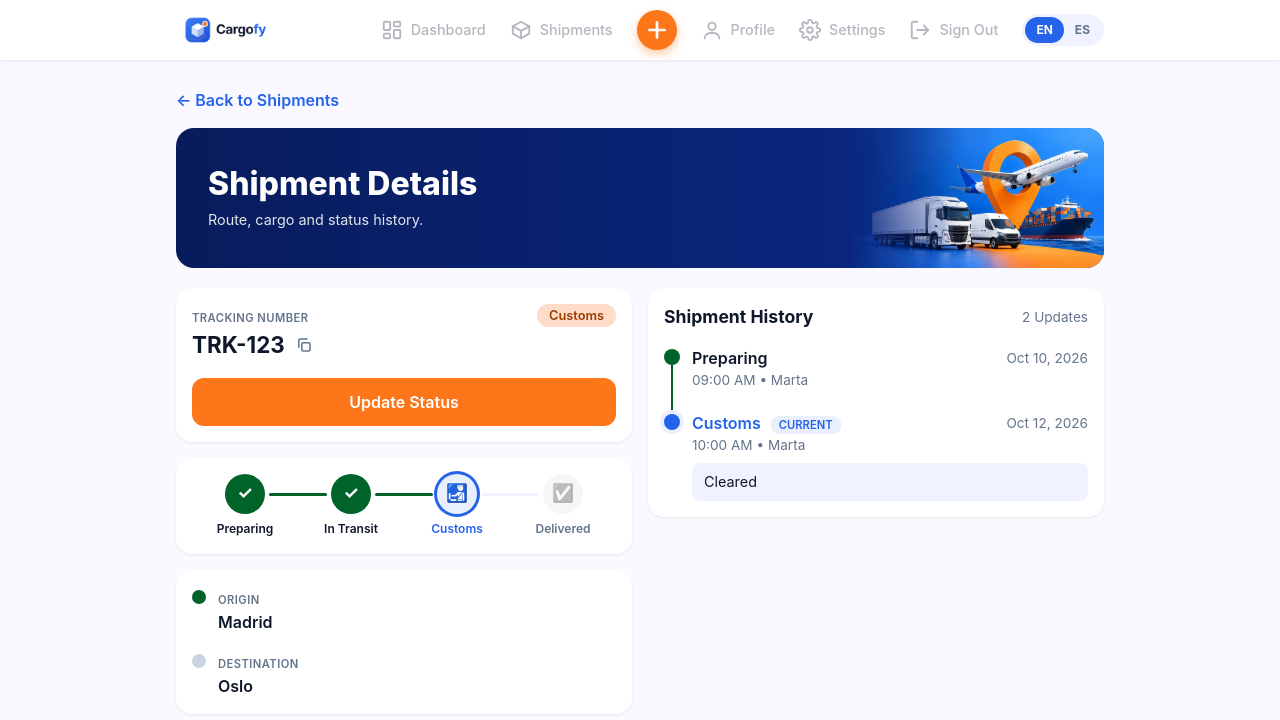
Test: ShipmentDetailView › keeps the form open and shows the error when the update fails
The width and height of the screenshot is (1280, 720).
Click the button with class "detail__update". click: (404, 402)
box: x1=192 y1=378 x2=616 y2=426
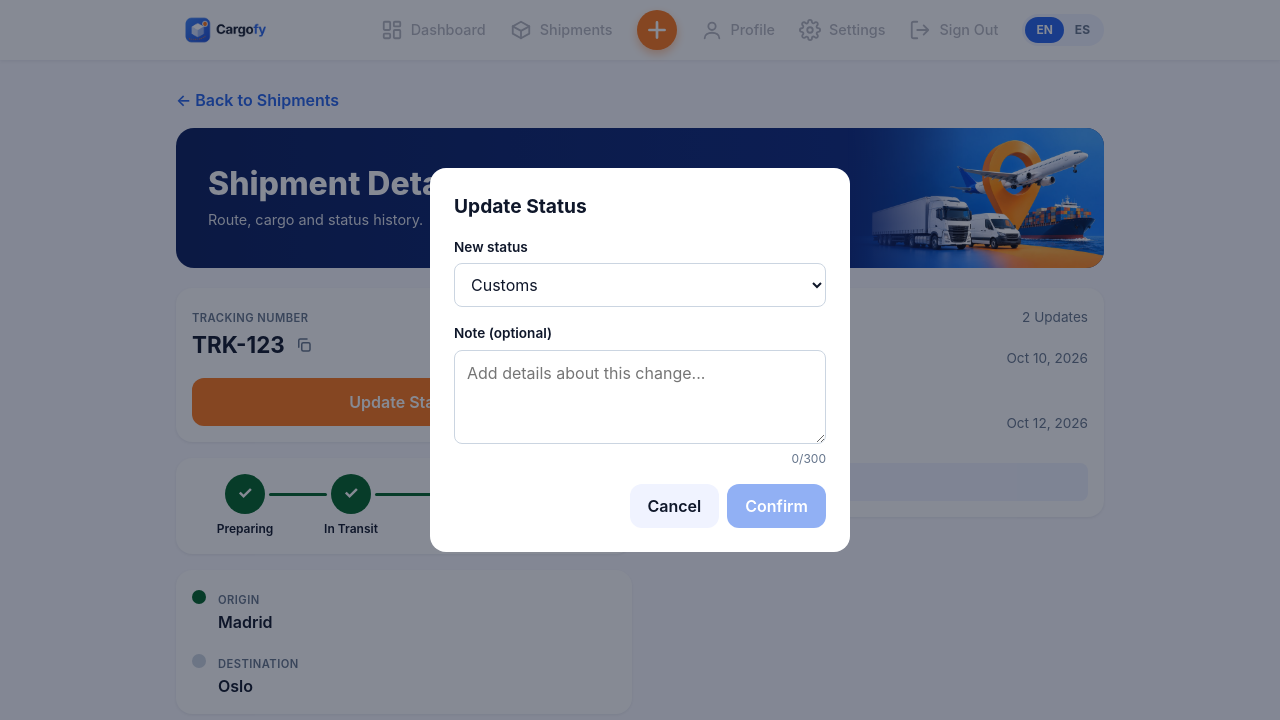
Select "Delivered" in the dropdown labelled "New status". click: (640, 285)
box: x1=454 y1=263 x2=826 y2=307
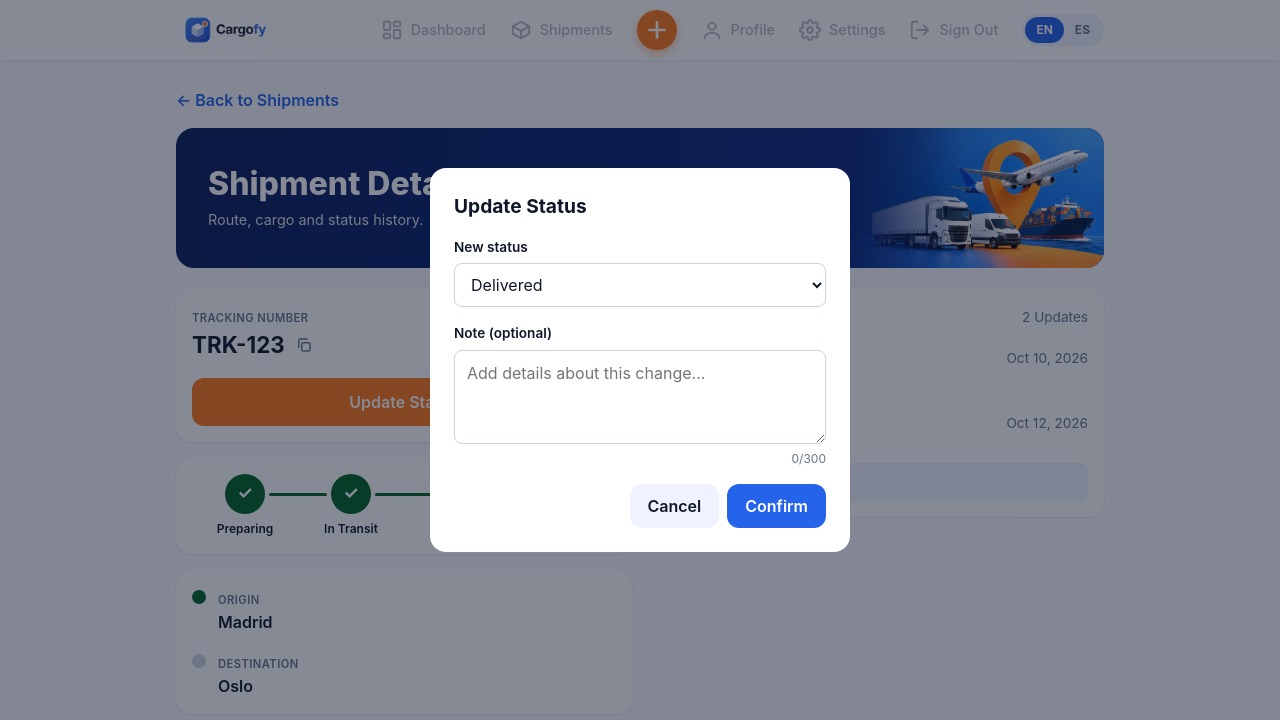
Submit the dialog, box x1=430 y1=168 x2=850 y2=552
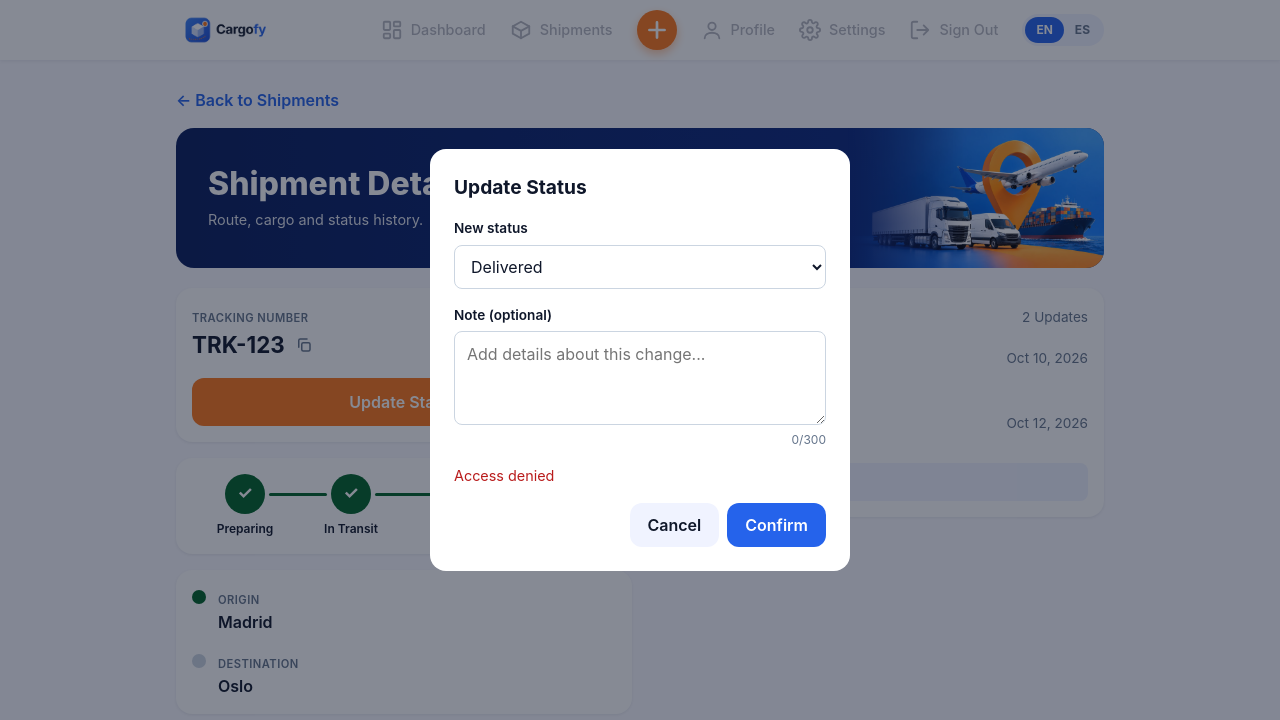
Result: the dialog is shown at x1=430 y1=149 x2=850 y2=571
Result: the message with class "modal__error" reads "Access denied" at x1=454 y1=467 x2=554 y2=484
